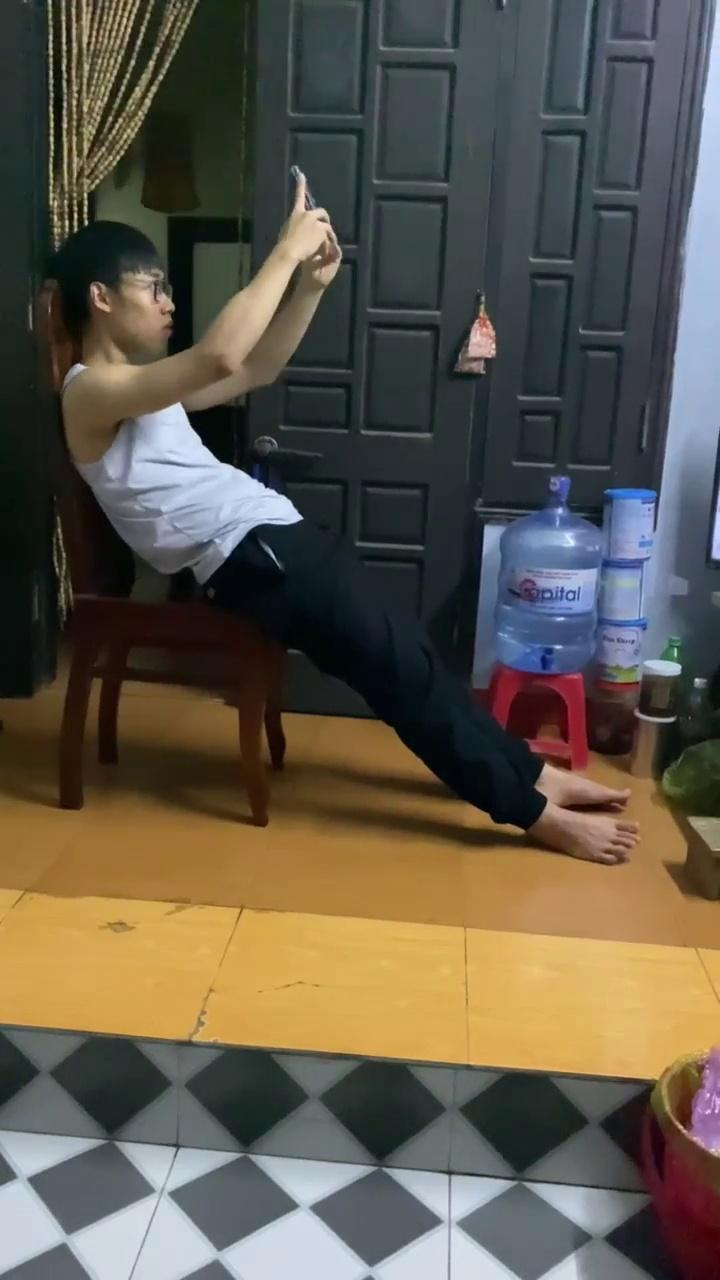BadPosture: (58, 179, 623, 861)
